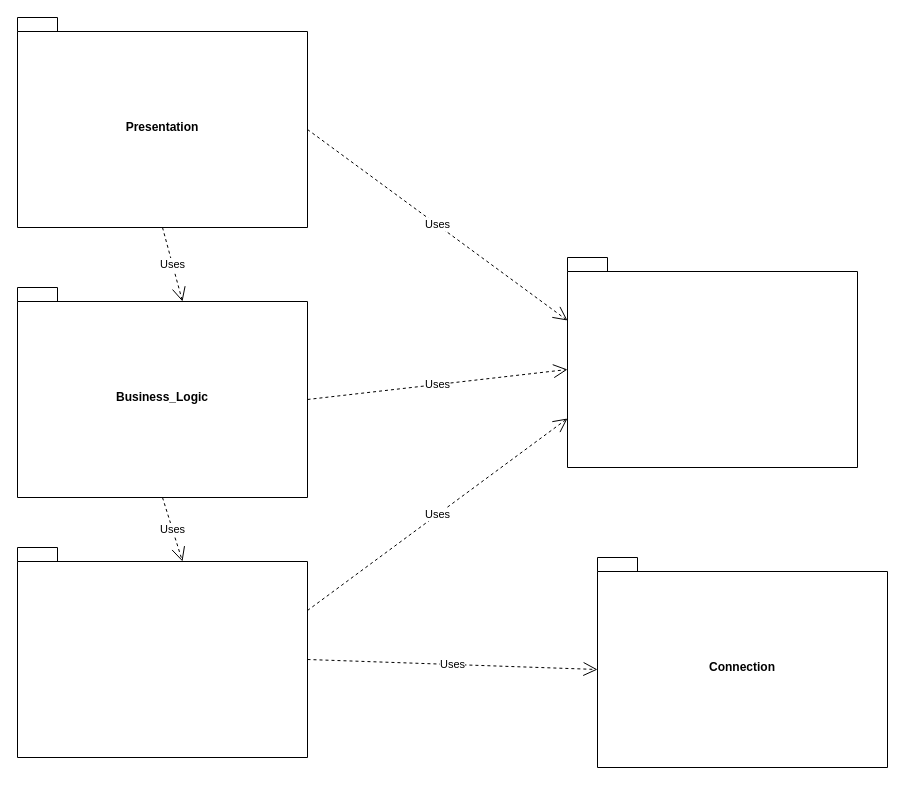
Image size: 905x785. Some labels were removed from this diagram. The shapes that lost their labels are listed below. From the top down, each one's box as (x1, y1, x2, y2) in pixels, then its label:
(566, 256, 858, 468): Model
(16, 546, 308, 758): DataAccessLayer
